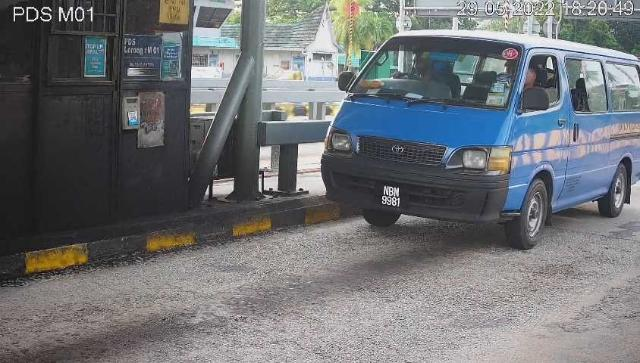License_Plate: (379, 182, 408, 213)
van: (320, 33, 640, 254)
